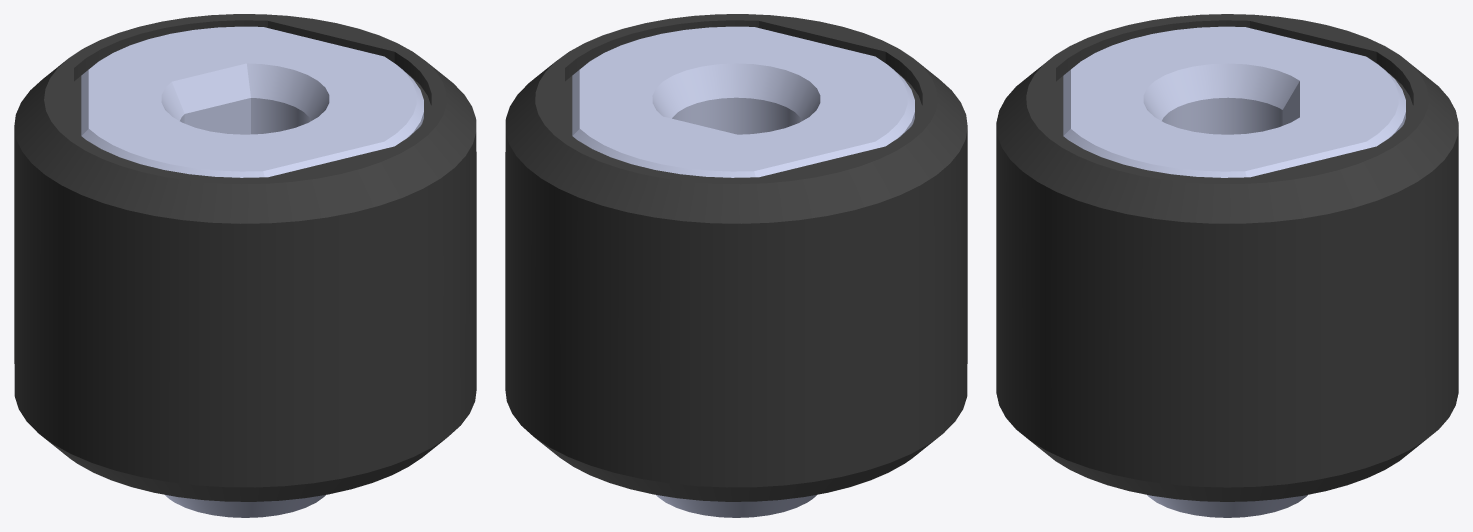
The model's file is hand_link.dae.
3 views of the same model, side by side, from view 1: azimuth 30°, elevation 25°; view 2: azimuth 150°, elevation 25°; view 3: azimuth 270°, elevation 25° (orthographic).
Parts seen in each view (by area): view 1: _3DGeom-40, _3DGeom-39; view 2: _3DGeom-40, _3DGeom-39; view 3: _3DGeom-40, _3DGeom-39.
Part boxes in pixels (x1,y1,x2,y2): _3DGeom-40: [14, 14, 476, 501]; _3DGeom-39: [81, 26, 423, 517]; _3DGeom-40: [505, 14, 967, 501]; _3DGeom-39: [572, 26, 914, 517]; _3DGeom-40: [996, 14, 1458, 501]; _3DGeom-39: [1063, 26, 1405, 517].
Bounding box in the file's own units: 0.031 × 0.031 × 0.0283.
